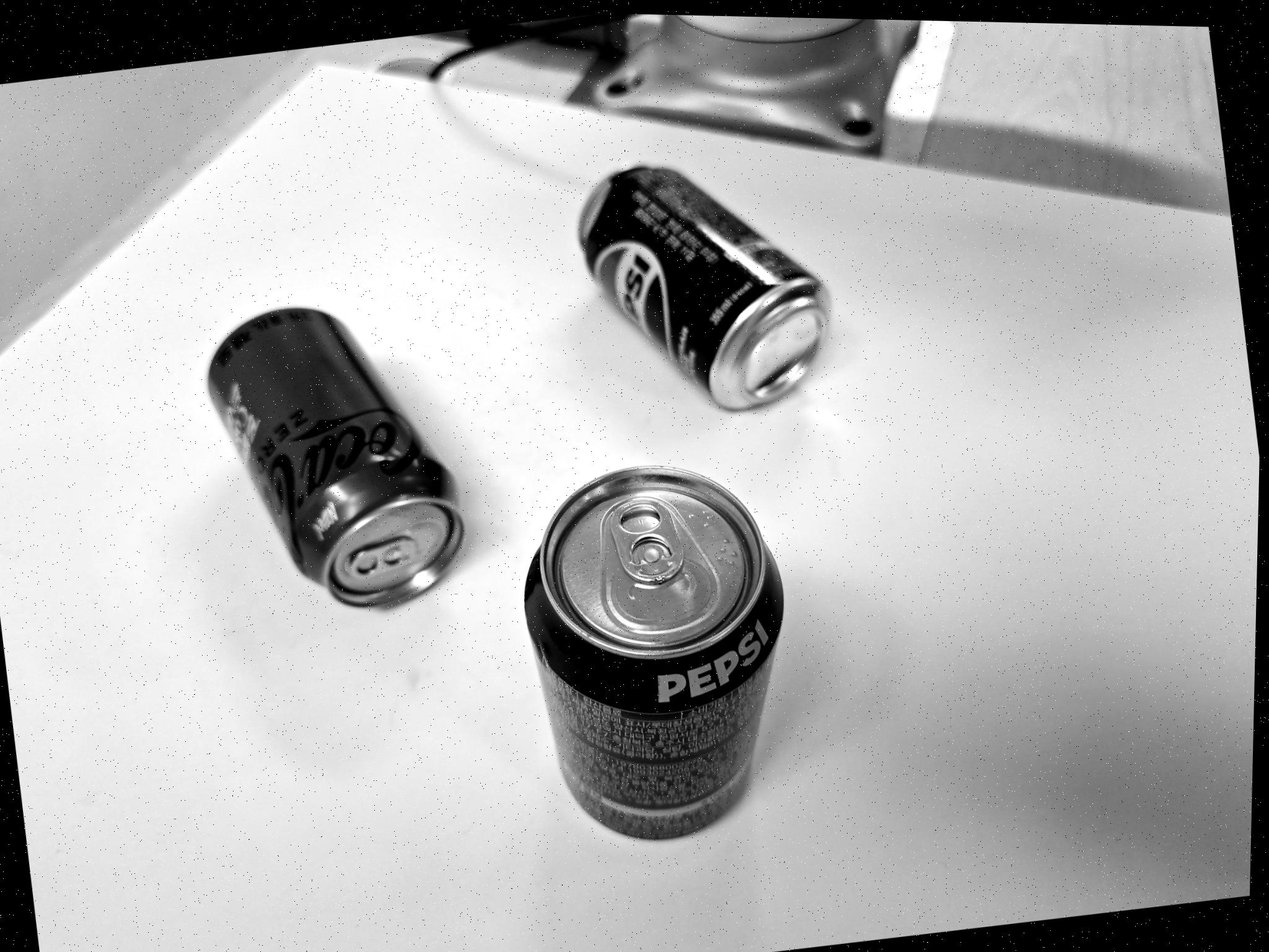can_coke_zero: (205, 307, 468, 615)
can_pepsi: (523, 463, 791, 843)
can_pepsi_zero: (575, 163, 828, 410)
